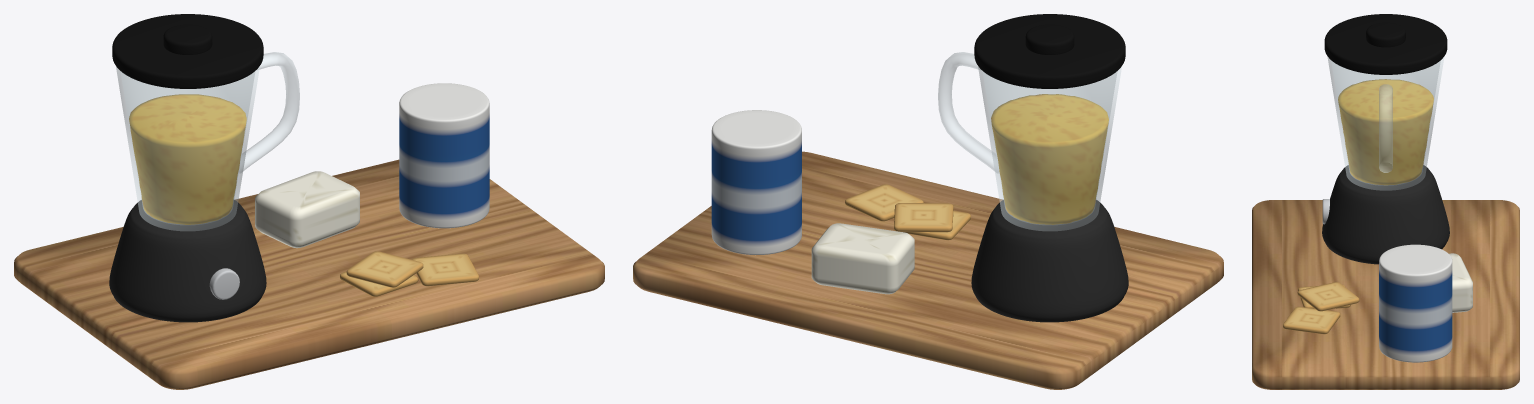
File: paso-3.glb
3 renders of one model, left to right at view 1: azimuth 30°, elevation 25°; view 2: azimuth 150°, elevation 25°; view 3: azimuth 270°, elevation 25°, orthographic. The views are drawn at different scales.
Parts seen in each view (by area): view 1: paso-3-0, paso-3-3, paso-3-1, paso-3-4, paso-3-12, paso-3-5, paso-3-8, paso-3-7, paso-3-10, paso-3-11, paso-3-6, paso-3-2 (+1 smaller); view 2: paso-3-0, paso-3-3, paso-3-1, paso-3-4, paso-3-12, paso-3-5, paso-3-8, paso-3-7, paso-3-10, paso-3-11, paso-3-6, paso-3-9; view 3: paso-3-0, paso-3-3, paso-3-1, paso-3-4, paso-3-12, paso-3-5, paso-3-7, paso-3-10, paso-3-11, paso-3-8, paso-3-6.
Part boxes in pixels (bbox=[...]): paso-3-0: bbox=[14, 159, 604, 389]; paso-3-3: bbox=[116, 66, 259, 231]; paso-3-1: bbox=[109, 200, 266, 322]; paso-3-4: bbox=[129, 94, 246, 224]; paso-3-12: bbox=[399, 83, 489, 228]; paso-3-5: bbox=[112, 14, 263, 88]; paso-3-8: bbox=[255, 171, 359, 248]; paso-3-7: bbox=[239, 52, 299, 173]; paso-3-10: bbox=[346, 251, 423, 287]; paso-3-11: bbox=[412, 253, 478, 286]; paso-3-6: bbox=[163, 24, 212, 54]; paso-3-2: bbox=[209, 268, 239, 299]; paso-3-0: bbox=[633, 151, 1223, 389]; paso-3-3: bbox=[978, 66, 1121, 231]; paso-3-1: bbox=[971, 200, 1128, 322]; paso-3-4: bbox=[991, 94, 1108, 224]; paso-3-12: bbox=[711, 110, 801, 255]; paso-3-5: bbox=[974, 14, 1125, 88]; paso-3-8: bbox=[811, 223, 914, 294]; paso-3-7: bbox=[938, 52, 998, 173]; paso-3-10: bbox=[894, 203, 953, 232]; paso-3-11: bbox=[845, 184, 923, 221]; paso-3-6: bbox=[1025, 24, 1074, 54]; paso-3-9: bbox=[903, 210, 970, 240]; paso-3-0: bbox=[1252, 200, 1519, 389]; paso-3-3: bbox=[1327, 56, 1444, 190]; paso-3-1: bbox=[1322, 165, 1449, 264]; paso-3-4: bbox=[1338, 79, 1433, 185]; paso-3-12: bbox=[1379, 244, 1452, 362]; paso-3-5: bbox=[1324, 14, 1447, 74]; paso-3-7: bbox=[1379, 84, 1392, 172]; paso-3-10: bbox=[1297, 282, 1359, 311]; paso-3-11: bbox=[1283, 306, 1340, 334]; paso-3-8: bbox=[1449, 253, 1472, 312]; paso-3-6: bbox=[1366, 22, 1405, 47].
Size of the model in its own units: 0.42 by 0.25 by 0.27.
Materials: 9 (1 with a texture image).
